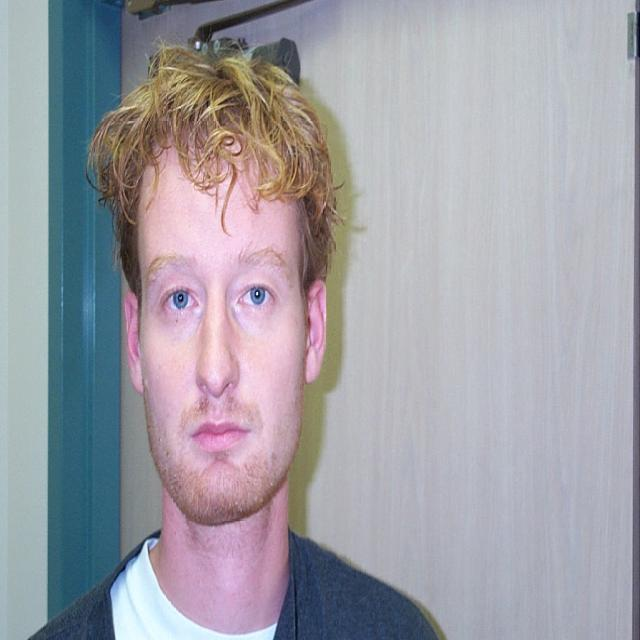sem_oculos: (117, 244, 330, 341)
